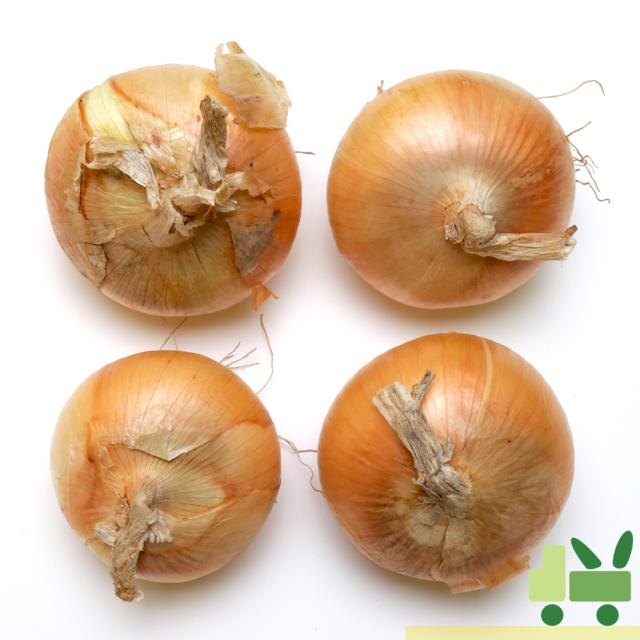onion: (43, 64, 580, 316), (44, 62, 304, 318), (323, 68, 577, 314), (47, 349, 286, 586)
